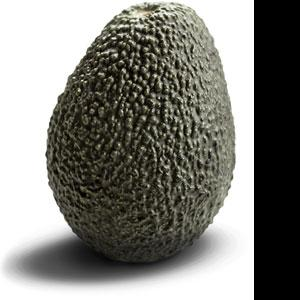ripe: (45, 1, 236, 264)
